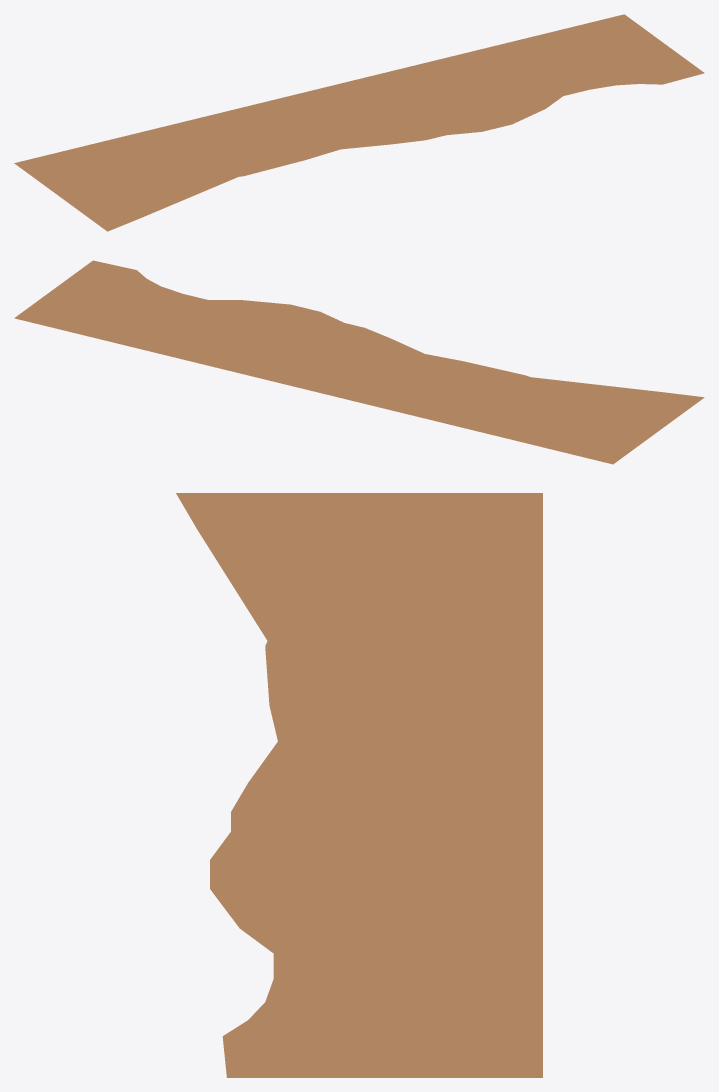
Rendered from see beach.fbx.
3 views of the same model, one above another, from view 1: azimuth 30°, elevation 25°; view 2: azimuth 150°, elevation 25°; view 3: azimuth 270°, elevation 25° (orthographic). The views are drawn at different scales.
Visible parts, largest first — view 1: Cube.043; view 2: Cube.043; view 3: Cube.043.
Boxes of the visible parts, x1,y1,x2,y2 form: Cube.043: [14, 14, 704, 231]; Cube.043: [14, 260, 704, 464]; Cube.043: [176, 493, 542, 1077].
Bounding box in the file's own units: 149 × 6.45e-06 × 39.61.
Materials: 1 (1 with a texture image).
